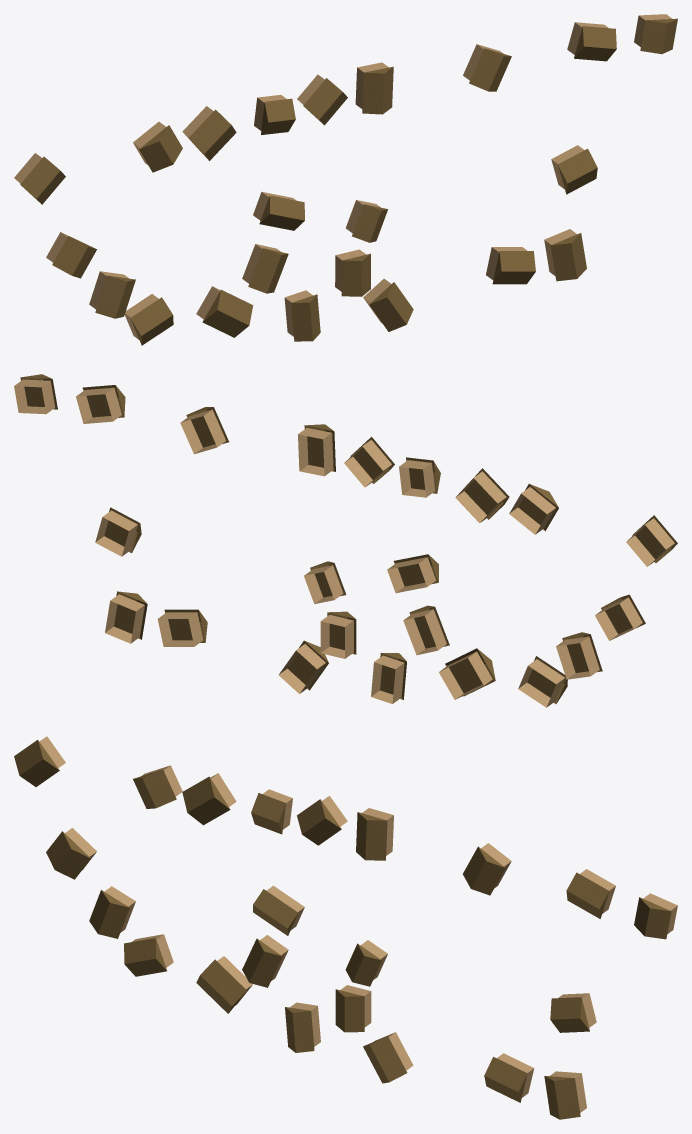
The model's file is buildings.obj.
The picture shows the model from 3 angles, top to bottom: view 1: azimuth 30°, elevation 25°; view 2: azimuth 150°, elevation 25°; view 3: azimuth 330°, elevation 25°; orthographic projection.
Size of the model in its own units: 109 by 42.73 by 4.2.
2 materials, 2 textured.
